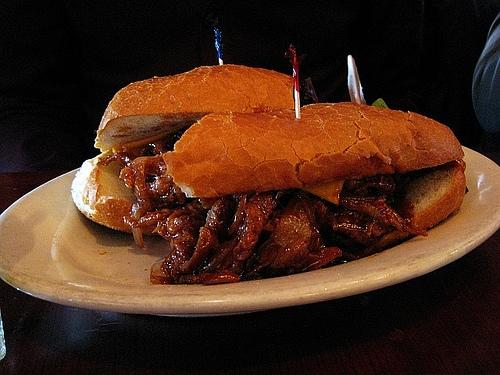lettuce: (371, 99, 389, 108)
onion: (131, 202, 145, 250)
